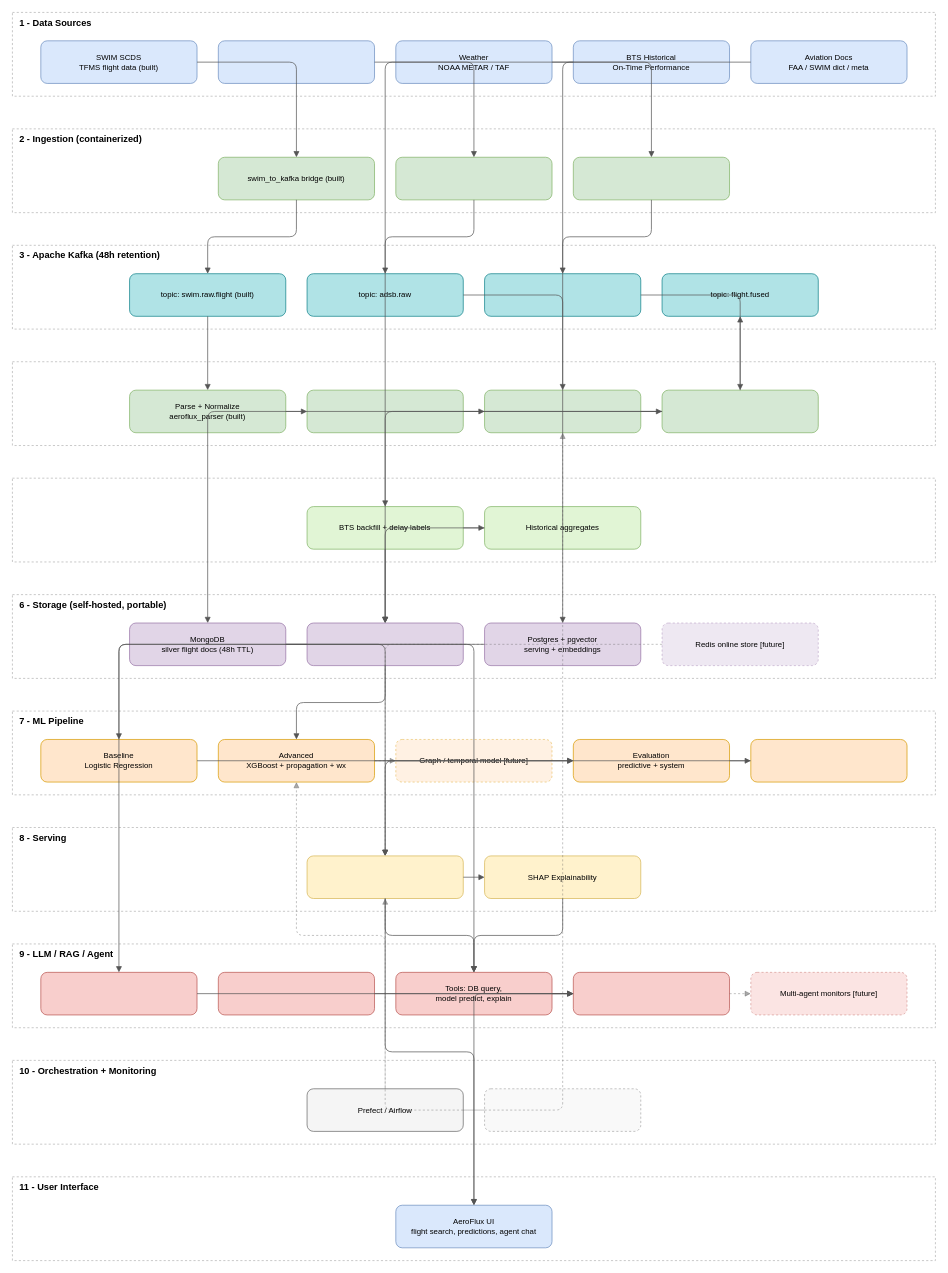
The diagram is 948 pixels wide and 1273 high, and some of its shapes have lost their labels. The box of each missing label's shape, as (x1, y1, x2, y2) in pixels:
4 - Spark Structured Streaming: (12, 361, 935, 446)
5 - Spark Batch: (12, 477, 935, 562)
ADS-B feeds airplanes.live / adsb.lol (built): (218, 40, 375, 83)
adsb poller: (395, 157, 552, 200)
Aviation Ops Analyst Agent: (573, 972, 730, 1015)
Claude LLM: (218, 972, 375, 1015)
FastAPI Inference API: (306, 855, 463, 899)
Feature Engineering propagation, demand, wx: (661, 389, 818, 433)
Fusion + Entity Resolution GUFI merge, identity (built): (484, 389, 641, 433)
MinIO (S3-compatible) gold parquet + models: (306, 622, 463, 666)
MLflow Registry: (750, 739, 907, 782)
Prometheus / Grafana [future]: (484, 1088, 641, 1131)
RAG Retriever (pgvector): (40, 972, 197, 1015)
Schema Contract pydantic validate (built): (306, 389, 463, 433)
topic: weather.raw: (484, 273, 641, 316)
weather poller: (573, 157, 730, 200)
